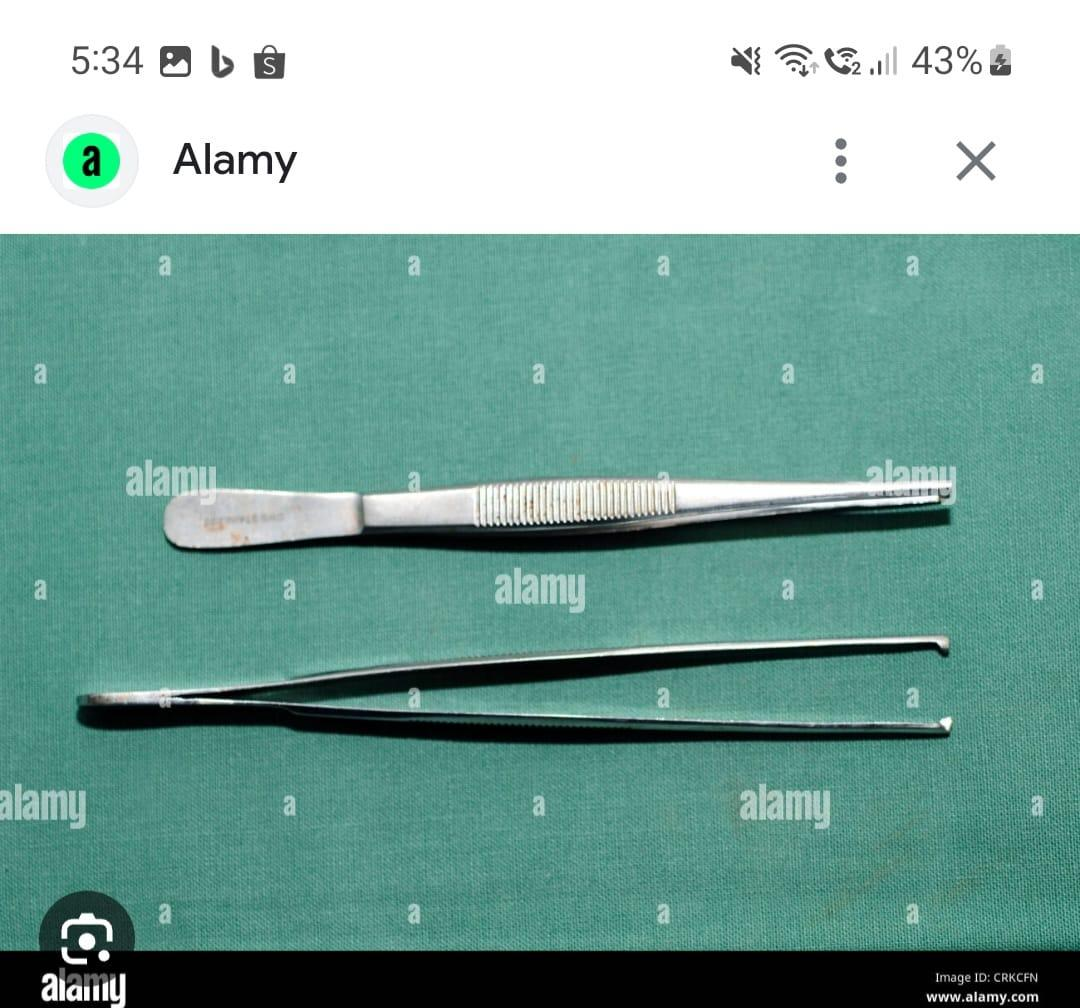Dissecting Forceps Tooth: (64, 623, 986, 744)
